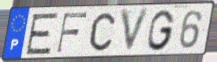6: (179, 8, 204, 50)
C: (88, 11, 117, 53)
E: (24, 11, 61, 56)
F: (55, 11, 89, 54)
G: (146, 9, 176, 52)
V: (119, 7, 152, 56)
